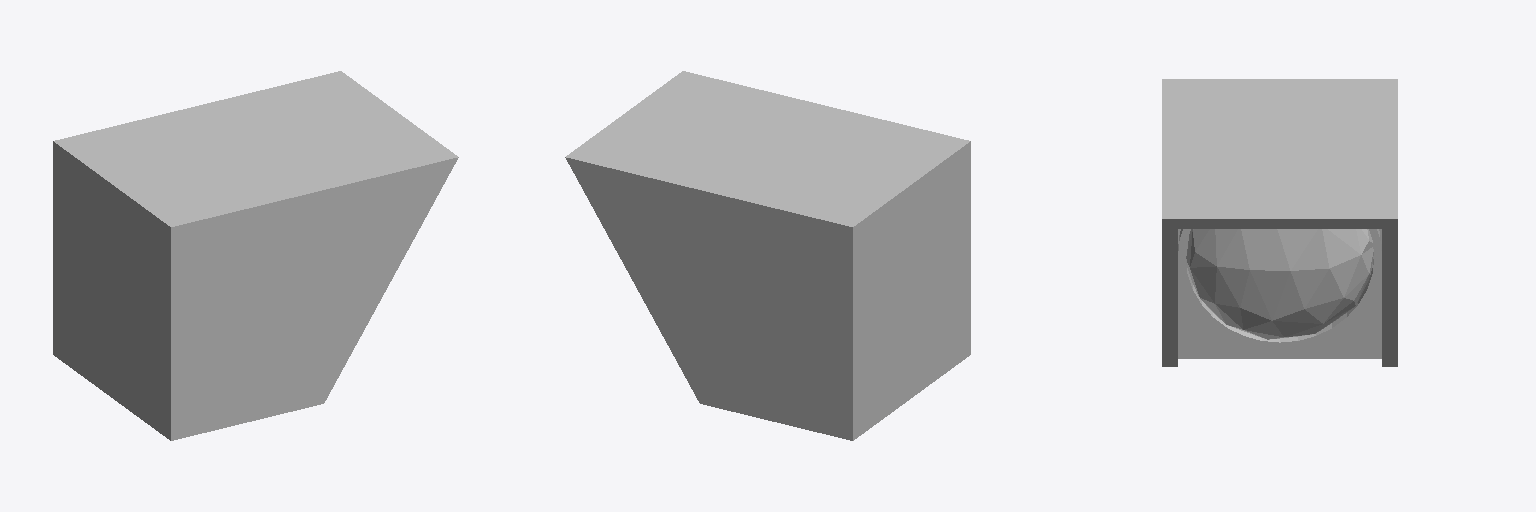
The model's file is tl_amber_on.obj.
3 views of the same model, side by side, from view 1: azimuth 30°, elevation 25°; view 2: azimuth 150°, elevation 25°; view 3: azimuth 270°, elevation 25° (orthographic).
Parts seen in each view (by area): view 1: Cube, Cube.001; view 2: Cube, Cube.001; view 3: Cube.001, Cube, 球體, 圓柱體.
Part boxes in pixels (x1,y1,x2,y2): Cube: (53, 108, 306, 440); Cube.001: (190, 71, 458, 407); Cube: (717, 108, 970, 440); Cube.001: (565, 71, 833, 407); Cube.001: (1162, 145, 1397, 366); Cube: (1162, 79, 1397, 358); 球體: (1186, 229, 1373, 339); 圓柱體: (1178, 229, 1381, 349).
Bounding box in the file's own units: 1.05 × 0.7481 × 0.7481.